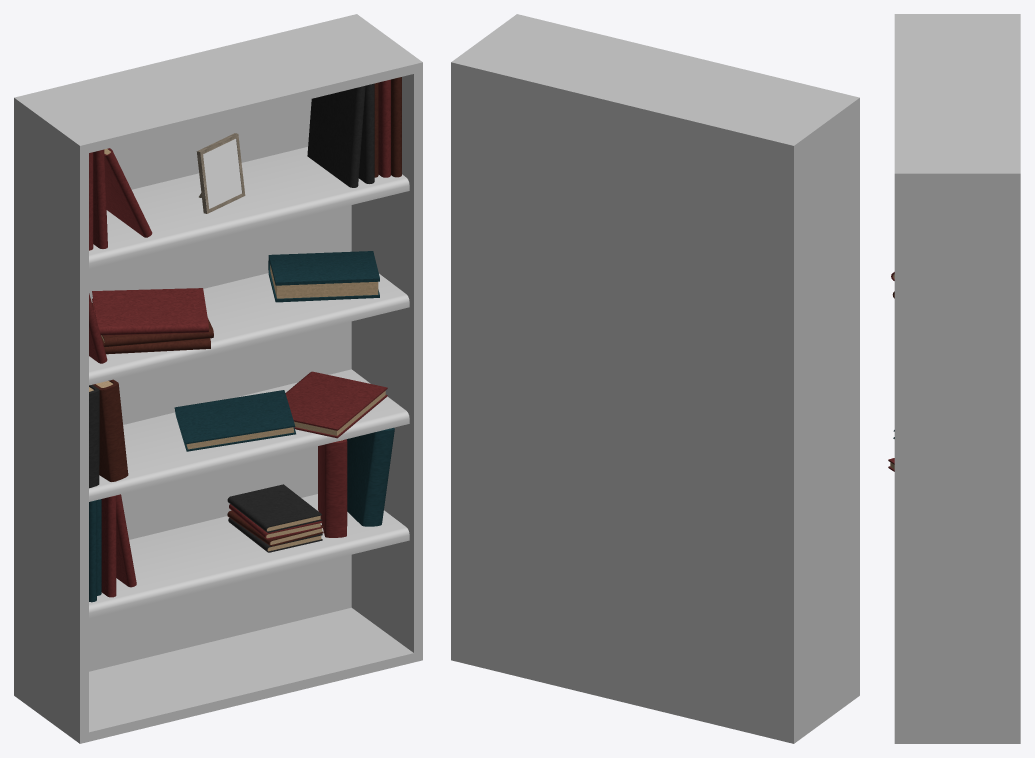
Rendered from Repisa.fbx.
3 renders of one model, left to right at view 1: azimuth 30°, elevation 25°; view 2: azimuth 150°, elevation 25°; view 3: azimuth 270°, elevation 25°, orthographic. The views are drawn at different scales.
Parts seen in each view (by area): view 1: Shelf, Book.017, Book.008, Book.006, Book.016, Book.013, Book.019, Book.023, Book.018, Book.015, FrameGlass, Book.003 (+15 smaller); view 2: Shelf; view 3: Shelf.
Boxes of the visible parts, x1,y1,x2,y2 form: Shelf: (14, 14, 422, 743); Book.017: (174, 390, 295, 451); Book.008: (268, 251, 379, 302); Book.006: (92, 288, 208, 335); Book.016: (285, 371, 387, 438); Book.013: (307, 85, 365, 187); Book.019: (347, 427, 394, 526); Book.023: (227, 484, 321, 532); Book.018: (318, 439, 347, 537); Book.015: (93, 379, 128, 481); FrameGlass: (203, 139, 241, 208); Book.003: (104, 148, 152, 237); Shelf: (451, 14, 859, 743); Shelf: (894, 14, 1020, 743).
Bounding box in the file's own units: 300 × 500 × 105.
